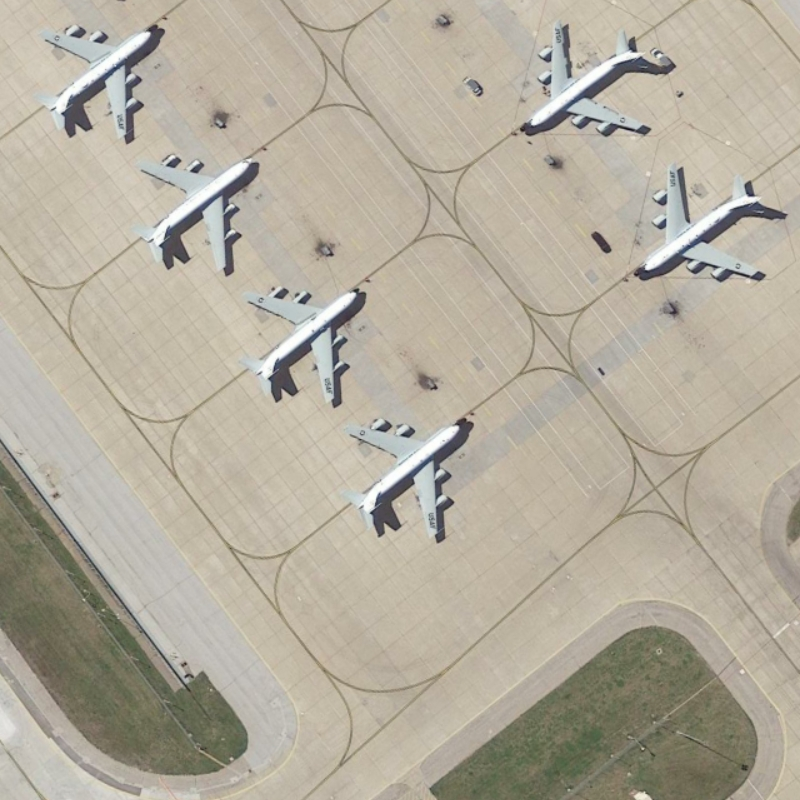A11: (626, 152, 774, 298), (514, 16, 660, 147), (342, 411, 476, 544), (37, 16, 171, 148), (241, 277, 371, 411), (134, 146, 261, 282)
